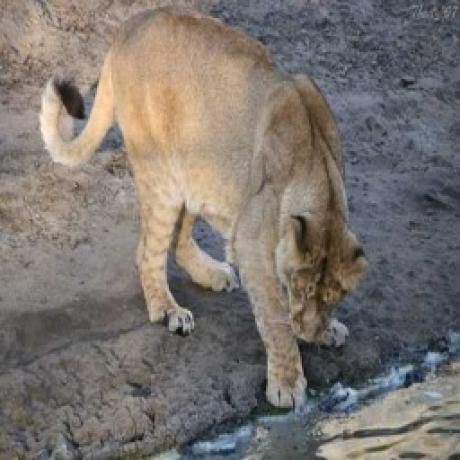Lion: (38, 0, 376, 410)
